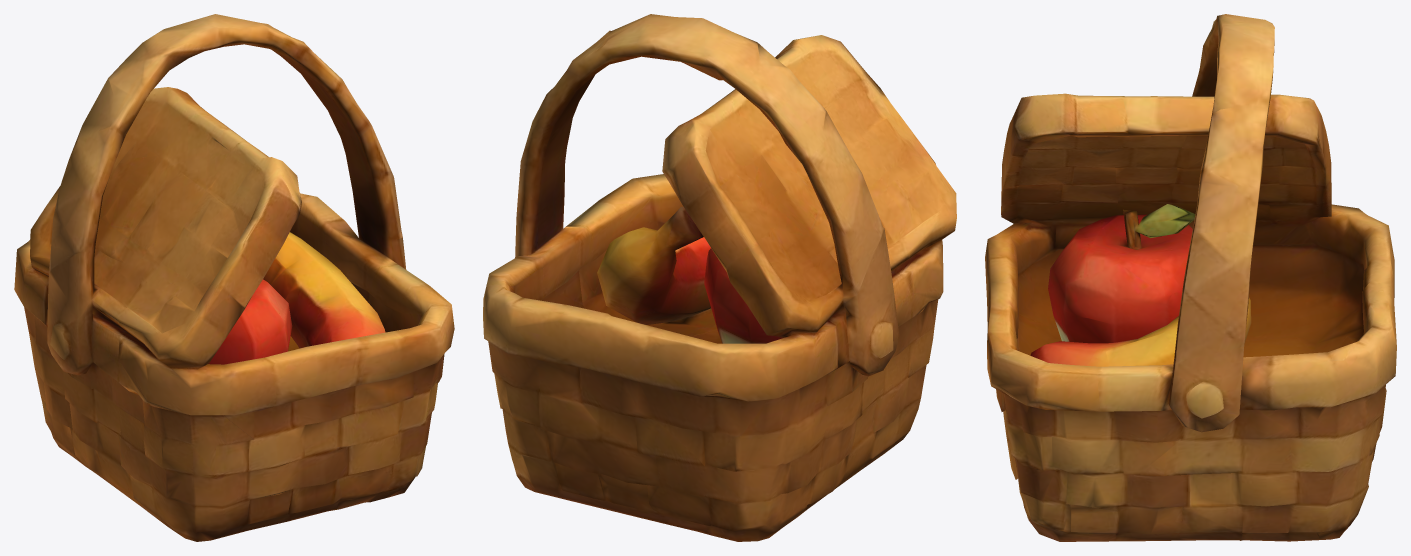
File: 野餐篮.glb
3 views of the same model, side by side, from view 1: azimuth 30°, elevation 25°; view 2: azimuth 150°, elevation 25°; view 3: azimuth 270°, elevation 25° (orthographic). The views are drawn at different scales.
Visible parts, largest first — view 1: tripo_node_cd6e42f3-24e4-49e1-8d1e-ab5a97d595d9; view 2: tripo_node_cd6e42f3-24e4-49e1-8d1e-ab5a97d595d9; view 3: tripo_node_cd6e42f3-24e4-49e1-8d1e-ab5a97d595d9.
Boxes of the visible parts, x1,y1,x2,y2 form: tripo_node_cd6e42f3-24e4-49e1-8d1e-ab5a97d595d9: [14, 14, 454, 541]; tripo_node_cd6e42f3-24e4-49e1-8d1e-ab5a97d595d9: [483, 14, 956, 541]; tripo_node_cd6e42f3-24e4-49e1-8d1e-ab5a97d595d9: [985, 14, 1396, 541].
Bounding box in the file's own units: 0.8278 × 1 × 0.8239.
Materials: 1 (1 with a texture image).
